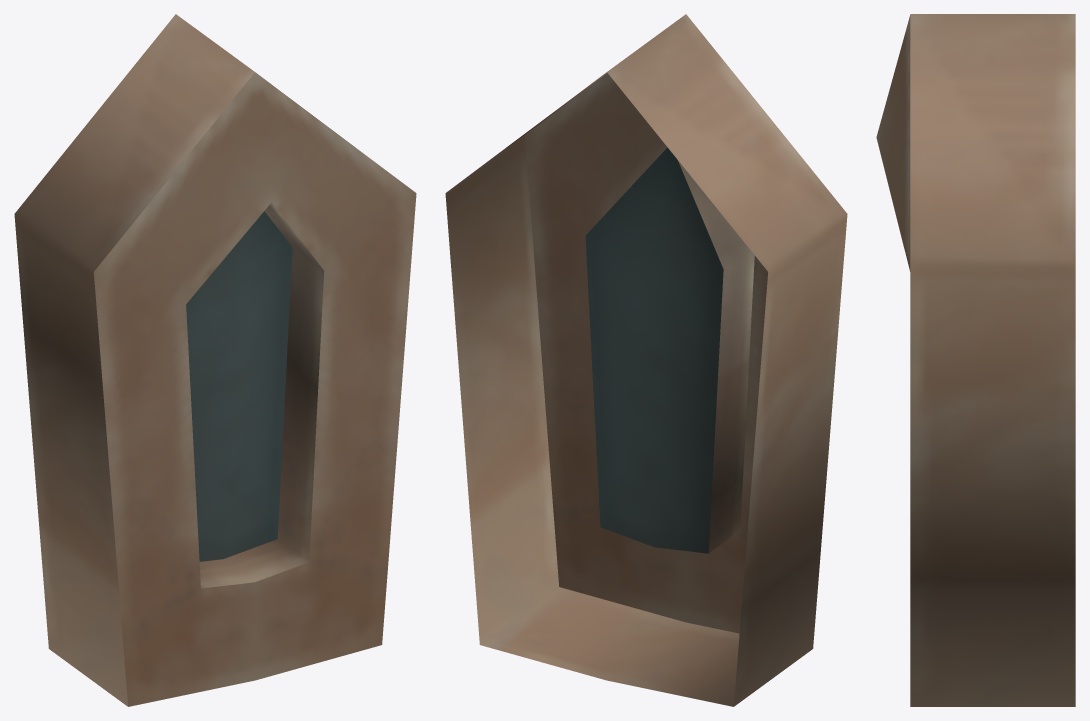
The model's file is castleWalls_window.FBX.
3 renders of one model, left to right at view 1: azimuth 30°, elevation 25°; view 2: azimuth 150°, elevation 25°; view 3: azimuth 270°, elevation 25°, orthographic. The views are drawn at different scales.
Visible parts, largest first — view 1: castleWalls_window; view 2: castleWalls_window; view 3: castleWalls_window.
Boxes of the visible parts, bbox=[...] form: castleWalls_window: bbox=[14, 14, 416, 706]; castleWalls_window: bbox=[445, 14, 847, 706]; castleWalls_window: bbox=[876, 14, 1075, 706].
Size of the model in its own units: 44.11 by 79.47 by 22.65.
Materials: 1 (1 with a texture image).
